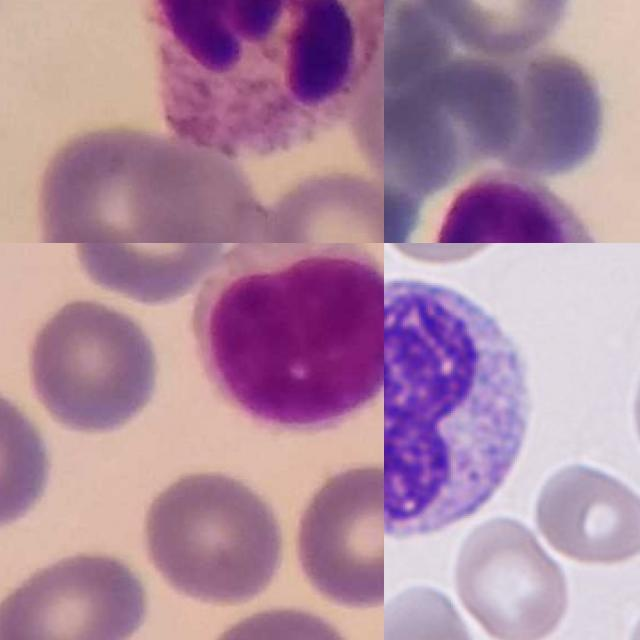Lymphocyte: (384, 263, 547, 554), (194, 243, 384, 428), (435, 167, 610, 243)
Neutrophil: (137, 0, 384, 156)
RBC: (449, 512, 575, 640), (527, 457, 640, 569), (384, 578, 485, 640), (384, 243, 531, 267)
